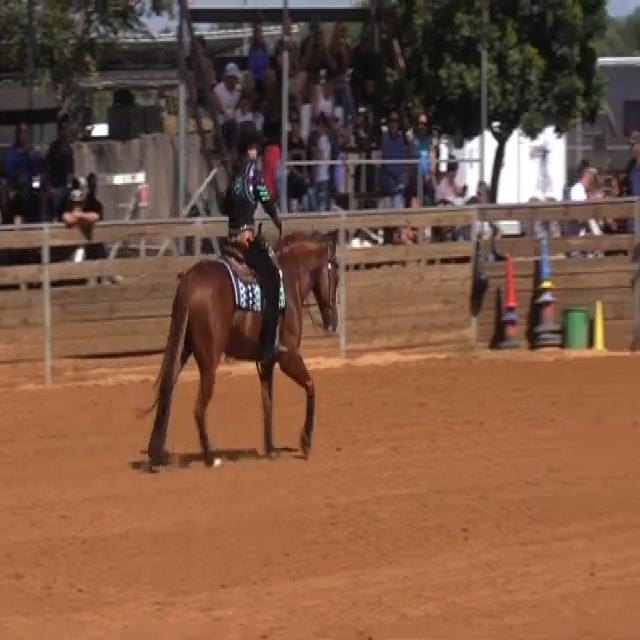horse: (142, 225, 342, 468)
